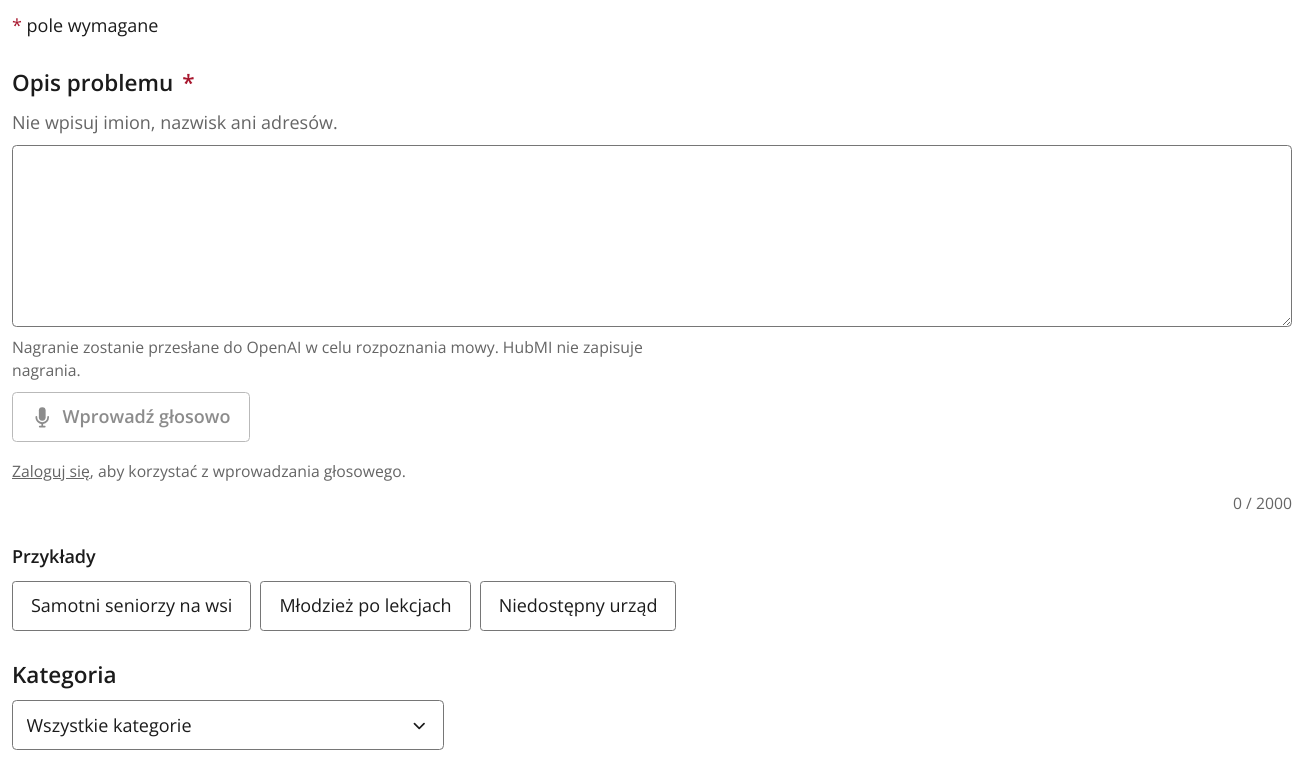
it: MatchExperience › fills the textarea from an example chip and moves focus to it
The image size is (1304, 777).
Click the button "Młodzież po lekcjach". click: (366, 606)
box: [260,581,471,630]
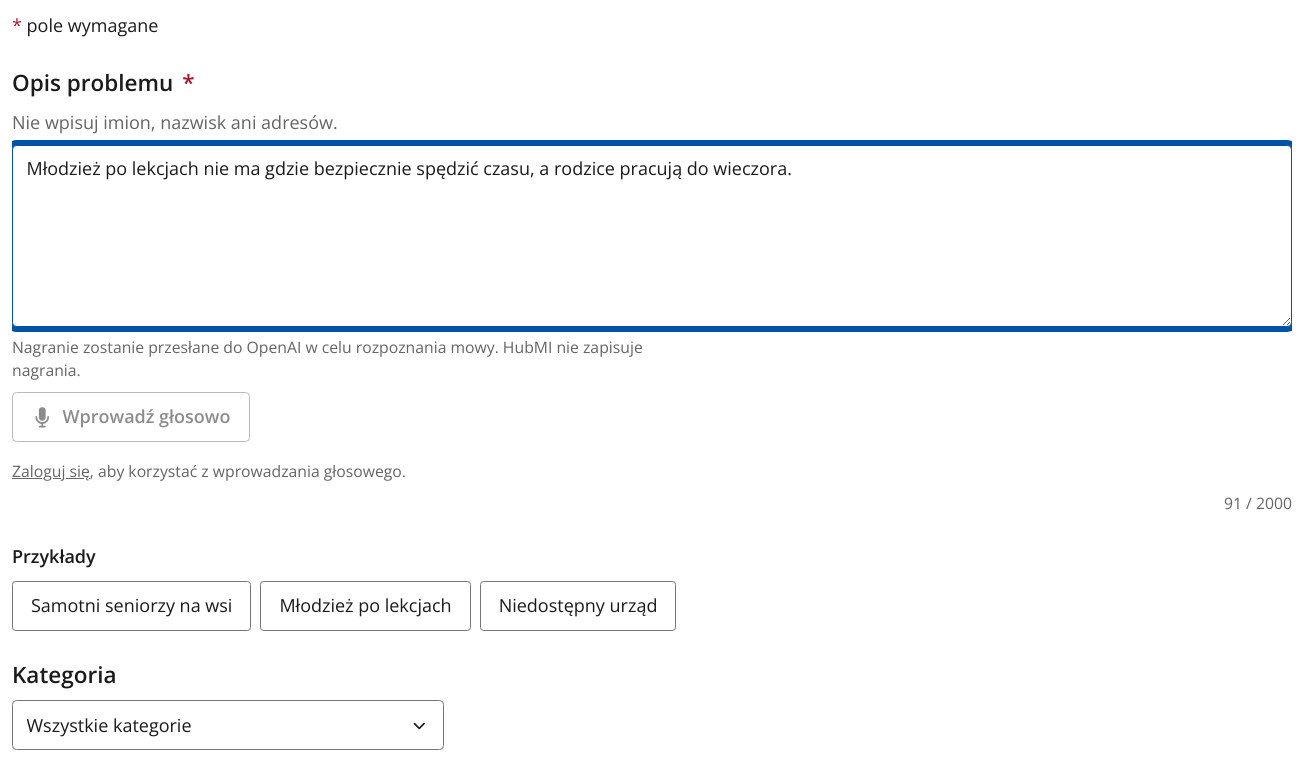
Expected: the text box labelled "Opis problemu" holds "Młodzież po lekcjach nie ma gdzie bezpiecznie spędzić czasu, a rodzice pracują do wieczora.", [12,145,1292,327]
